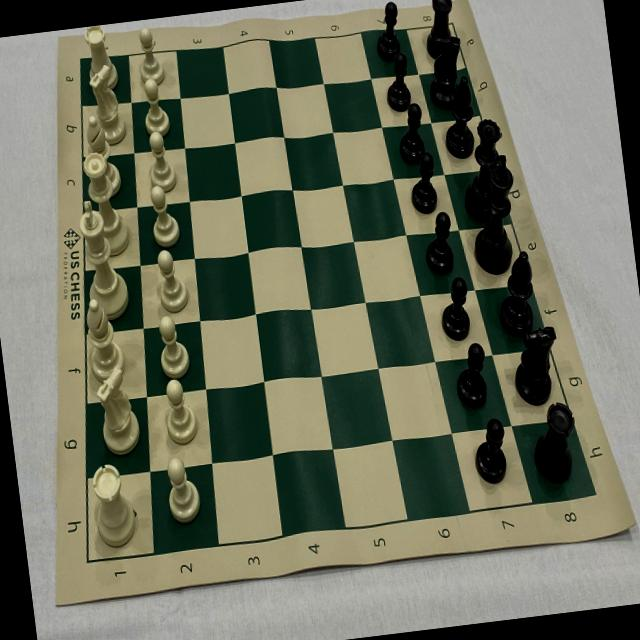black-bishop: (488, 248, 538, 337), (438, 74, 476, 158)
black-king: (464, 152, 526, 274)
black-knight: (508, 322, 564, 408), (423, 27, 468, 109)
black-pawn: (468, 412, 511, 487), (450, 341, 492, 411), (436, 275, 474, 341), (420, 209, 456, 275), (406, 152, 440, 218), (380, 50, 414, 114), (371, 0, 403, 63), (395, 102, 427, 164)
black-queen: (456, 116, 510, 220)
black-rook: (528, 400, 582, 487), (420, 0, 459, 62)
white-bishop: (80, 294, 126, 382), (82, 110, 123, 199)
white-king: (74, 196, 131, 324)
white-knight: (90, 364, 143, 458), (84, 63, 130, 148)
white-pawn: (160, 454, 204, 526), (160, 378, 199, 447), (154, 312, 192, 381), (154, 246, 190, 312), (146, 182, 180, 248), (133, 24, 167, 88), (138, 77, 172, 138), (144, 130, 176, 194)
white-queen: (79, 150, 131, 260)
white-rook: (86, 458, 140, 549), (83, 23, 120, 93)
